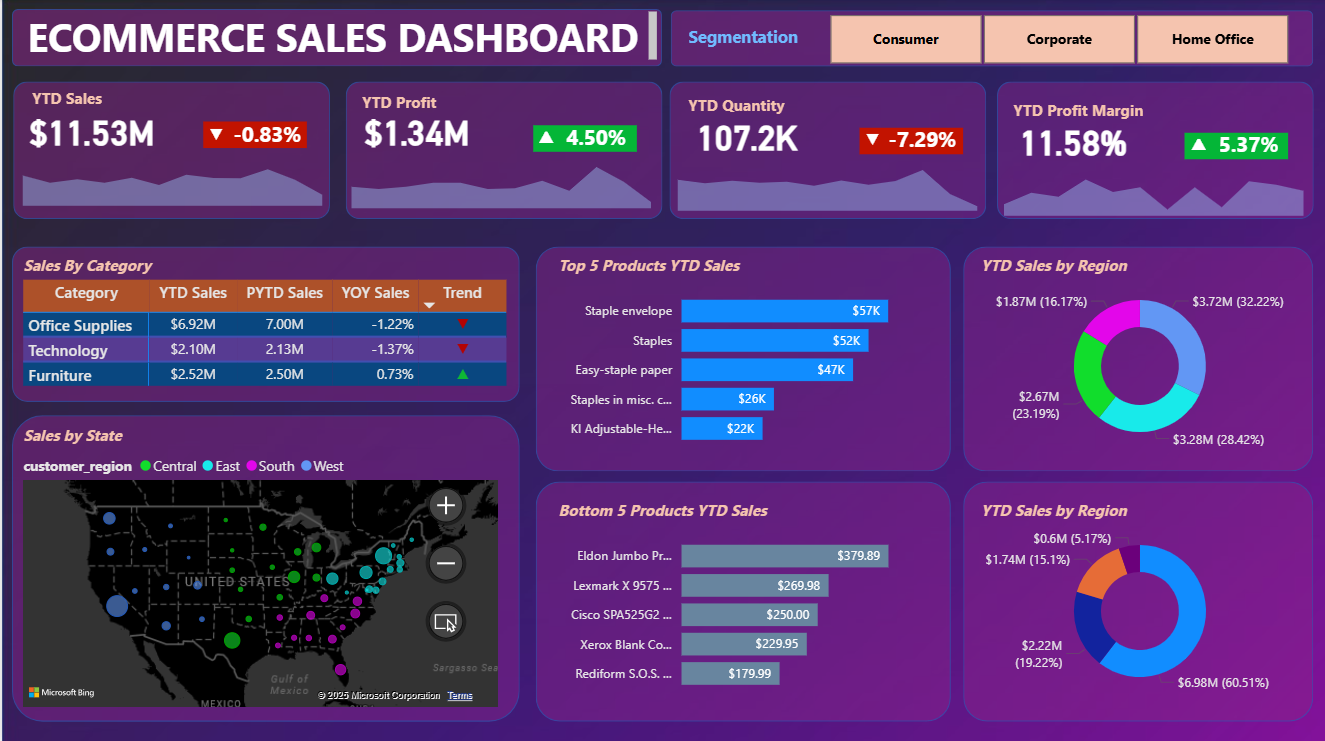

Layout of this report page (visuals, bound fields, positions):
{"tool":"powerbi","page":{"name":"Page 1","canvas":[1280,720],"ordinal":0},"visuals":[{"type":"shape","box":[9.7,9.7,627.3,55.5],"z":0},{"type":"textbox","box":[9.7,7.2,627.3,57.9],"z":1000},{"type":"shape","box":[11.4,80,305.7,132.9],"z":2000},{"type":"card","fields":{"Values":["ecommerce_data.YTD Sales"]},"box":[12.9,98.6,147.1,57.1],"z":3000},{"type":"areaChart","fields":{"Category":["Calender.Month"],"Y":["Sum(ecommerce_data.sales_per_order)"]},"box":[4.3,144.3,320,60],"z":4000},{"type":"shape","box":[194.3,118.6,100,25.7],"z":5000},{"type":"card","fields":{"Values":["ecommerce_data.YOY Sales"]},"box":[214.3,114.3,82.9,35.7],"z":6000},{"type":"card","fields":{"Values":["ecommerce_data.sales icon"]},"box":[187.1,115.7,40,22.9],"z":7000},{"type":"textbox","box":[24.3,81.4,88.6,32.9],"z":8000},{"type":"shape","box":[331.4,80,305.7,132.9],"z":9000},{"type":"card","fields":{"Values":["ecommerce_data.YTD profit"]},"box":[342.9,98.6,115.7,57.1],"z":10000},{"type":"shape","box":[512.4,121.5,100,25.7],"z":11000},{"type":"card","fields":{"Values":["ecommerce_data.profit icon"]},"box":[505.3,118.6,40,22.9],"z":12000},{"type":"areaChart","fields":{"Category":["Calender.Month"],"Y":["Sum(ecommerce_data.profit_per_order)"]},"box":[322.4,147.2,320,60],"z":13000},{"type":"card","fields":{"Values":["ecommerce_data.YOY profit"]},"box":[532.4,117.2,82.9,35.7],"z":14000},{"type":"textbox","box":[342.4,84.3,88.6,32.9],"z":15000},{"type":"shape","box":[644.3,80,305.7,132.9],"z":16000},{"type":"card","fields":{"Values":["ecommerce_data.YTD qty"]},"box":[646,103.9,147.1,57.1],"z":17000},{"type":"areaChart","fields":{"Category":["Calender.Month"],"Y":["Sum(ecommerce_data.order_quantity)"]},"box":[637.4,149.6,320,60],"z":18000},{"type":"shape","box":[827.4,123.9,100,25.7],"z":19000},{"type":"card","fields":{"Values":["ecommerce_data.YOY qty"]},"box":[847.4,119.6,82.9,35.7],"z":20000},{"type":"card","fields":{"Values":["ecommerce_data.qty icon"]},"box":[820.3,121,40,22.9],"z":21000},{"type":"textbox","box":[657.1,87.1,115.7,32.9],"z":22000},{"type":"shape","box":[960,80,305.7,132.9],"z":23000},{"type":"card","fields":{"Values":["ecommerce_data.YTD profit margin"]},"box":[960.4,108.6,147.1,57.1],"z":24000},{"type":"areaChart","fields":{"Category":["Calender.Month"],"Y":["ecommerce_data.profit margin"]},"box":[951.9,154.3,320,60],"z":25000},{"type":"shape","box":[1141.9,128.6,100,25.7],"z":26000},{"type":"card","fields":{"Values":["ecommerce_data.YOY profit margin"]},"box":[1161.9,124.3,82.9,35.7],"z":27000},{"type":"card","fields":{"Values":["ecommerce_data.profit margin icon"]},"box":[1134.7,125.7,40,22.9],"z":28000},{"type":"textbox","box":[971.4,91.4,162.9,32.9],"z":29000},{"type":"shape","box":[10,238.6,490,150],"z":30000},{"type":"pivotTable","title":"Sales By Category","fields":{"Values":["ecommerce_data.YTD Sales","ecommerce_data.PYTD Sales","ecommerce_data.YOY Sales","ecommerce_data.sales icon"],"Rows":["ecommerce_data.category_name"]},"box":[15.7,245.7,478.6,142.9],"z":31000},{"type":"shape","box":[10,401.4,490,295.7],"z":32000},{"type":"map","title":"Sales by State","fields":{"Y":["us_state_long_lat_codes.latitude"],"X":["us_state_long_lat_codes.longitude"],"Size":["ecommerce_data.YTD Sales"],"Series":["ecommerce_data.customer_region"]},"box":[15.7,410.2,468.1,278.7],"z":33000},{"type":"shape","box":[515.2,238.9,400.5,217.2],"z":34000},{"type":"shape","box":[515.2,465.7,400.5,231.6],"z":35000},{"type":"barChart","title":"Top 5 Products YTD Sales","fields":{"Category":["ecommerce_data.product_name"],"Y":["ecommerce_data.YTD Sales"]},"box":[532,246.1,371.6,196.6],"z":36000},{"type":"barChart","title":"Bottom  5 Products YTD Sales","fields":{"Category":["ecommerce_data.product_name"],"Y":["ecommerce_data.YTD Sales"]},"box":[532,482.6,371.6,196.6],"z":37000},{"type":"shape","box":[927.8,238.9,337.8,217.2],"z":38000},{"type":"shape","box":[927.8,465.7,337.8,231.6],"z":39000},{"type":"donutChart","title":"YTD Sales by Region","fields":{"Category":["ecommerce_data.customer_region"],"Y":["ecommerce_data.YTD Sales"]},"box":[939.8,246.1,317.3,196.6],"z":40000},{"type":"donutChart","title":"YTD Sales by Region","fields":{"Y":["ecommerce_data.YTD Sales"],"Category":["ecommerce_data.shipping_type"]},"box":[939.8,482.6,317.3,196.6],"z":41000},{"type":"shape","box":[645.4,10.9,620.1,54.3],"z":42000},{"type":"slicer","fields":{"Values":["ecommerce_data.customer_segment"]},"box":[773.3,8.4,492.2,60.3],"z":43000},{"type":"textbox","box":[657.5,20.5,126.7,35],"z":44000}]}

Visuals, with their boxes in screenshot pixels (x1, y1, x2, y2), scaled from the page's 1280x720 canvas onto the 1325x741 screenshot:
shape: (left=10, top=10, right=659, bottom=67)
textbox: (left=10, top=7, right=659, bottom=67)
shape: (left=12, top=82, right=328, bottom=219)
card - ecommerce_data.YTD Sales: (left=13, top=101, right=166, bottom=160)
areaChart - Calender.Month x Sum(ecommerce_data.sales_per_order): (left=4, top=149, right=336, bottom=210)
shape: (left=201, top=122, right=305, bottom=149)
card - ecommerce_data.YOY Sales: (left=222, top=118, right=308, bottom=154)
card - ecommerce_data.sales icon: (left=194, top=119, right=235, bottom=143)
textbox: (left=25, top=84, right=117, bottom=118)
shape: (left=343, top=82, right=659, bottom=219)
card - ecommerce_data.YTD profit: (left=355, top=101, right=475, bottom=160)
shape: (left=530, top=125, right=634, bottom=151)
card - ecommerce_data.profit icon: (left=523, top=122, right=564, bottom=146)
areaChart - Calender.Month x Sum(ecommerce_data.profit_per_order): (left=334, top=151, right=665, bottom=213)
card - ecommerce_data.YOY profit: (left=551, top=121, right=637, bottom=157)
textbox: (left=354, top=87, right=446, bottom=121)
shape: (left=667, top=82, right=983, bottom=219)
card - ecommerce_data.YTD qty: (left=669, top=107, right=821, bottom=166)
areaChart - Calender.Month x Sum(ecommerce_data.order_quantity): (left=660, top=154, right=991, bottom=216)
shape: (left=856, top=128, right=960, bottom=154)
card - ecommerce_data.YOY qty: (left=877, top=123, right=963, bottom=160)
card - ecommerce_data.qty icon: (left=849, top=125, right=891, bottom=148)
textbox: (left=680, top=90, right=800, bottom=123)
shape: (left=994, top=82, right=1310, bottom=219)
card - ecommerce_data.YTD profit margin: (left=994, top=112, right=1146, bottom=171)
areaChart - Calender.Month x ecommerce_data.profit margin: (left=985, top=159, right=1317, bottom=221)
shape: (left=1182, top=132, right=1286, bottom=159)
card - ecommerce_data.YOY profit margin: (left=1203, top=128, right=1289, bottom=165)
card - ecommerce_data.profit margin icon: (left=1175, top=129, right=1216, bottom=153)
textbox: (left=1006, top=94, right=1174, bottom=128)
shape: (left=10, top=246, right=518, bottom=400)
"Sales By Category" pivotTable: (left=16, top=253, right=512, bottom=400)
shape: (left=10, top=413, right=518, bottom=717)
"Sales by State" map: (left=16, top=422, right=501, bottom=709)
shape: (left=533, top=246, right=948, bottom=469)
shape: (left=533, top=479, right=948, bottom=718)
"Top 5 Products YTD Sales" barChart: (left=551, top=253, right=935, bottom=456)
"Bottom  5 Products YTD Sales" barChart: (left=551, top=497, right=935, bottom=699)
shape: (left=960, top=246, right=1310, bottom=469)
shape: (left=960, top=479, right=1310, bottom=718)
"YTD Sales by Region" donutChart: (left=973, top=253, right=1301, bottom=456)
"YTD Sales by Region" donutChart: (left=973, top=497, right=1301, bottom=699)
shape: (left=668, top=11, right=1310, bottom=67)
slicer - ecommerce_data.customer_segment: (left=800, top=9, right=1310, bottom=71)
textbox: (left=681, top=21, right=812, bottom=57)
